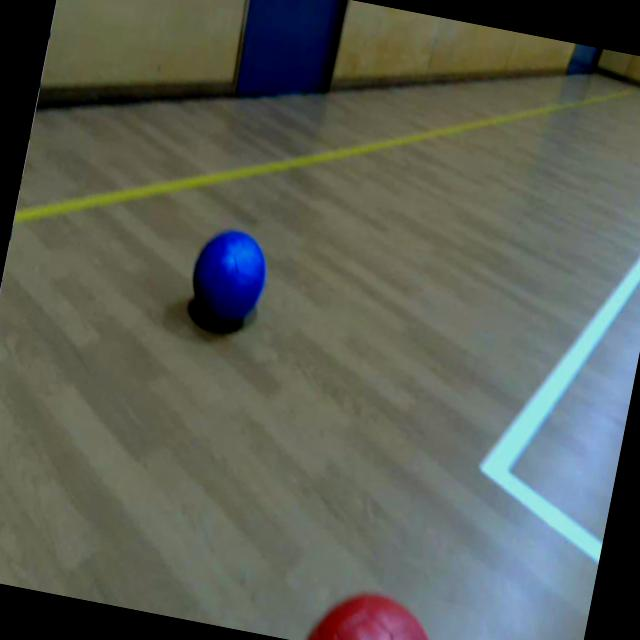blue_ball: (182, 224, 272, 332)
red_ball: (302, 580, 452, 640)
